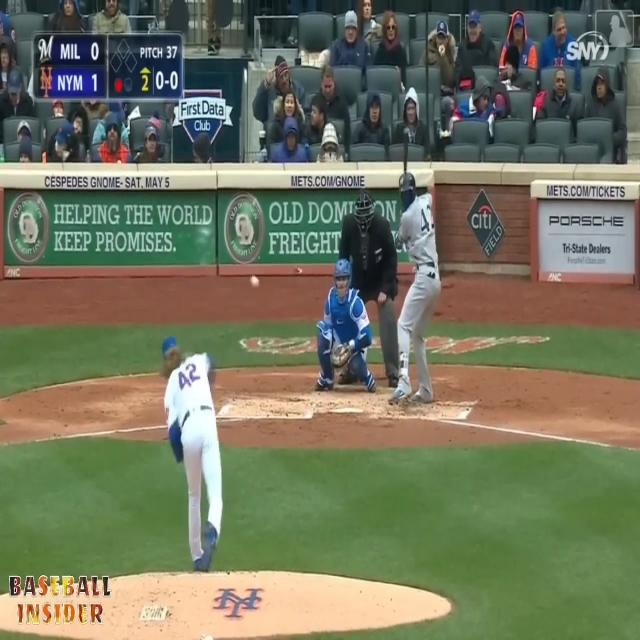baseball: (250, 276, 259, 287)
